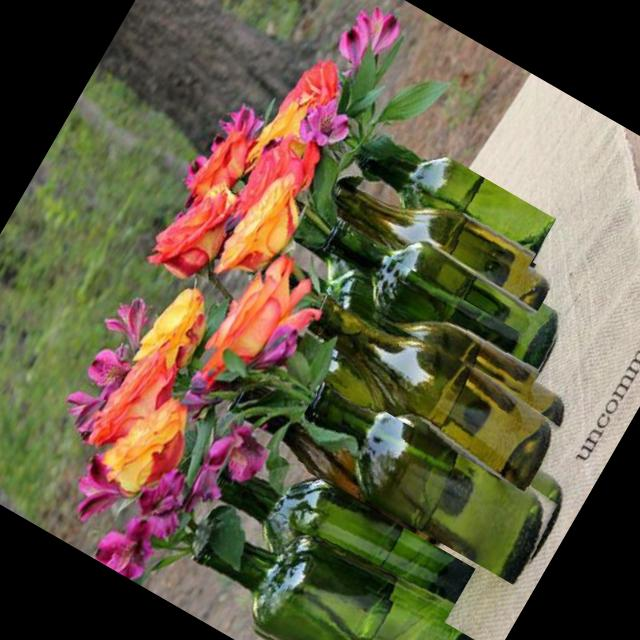Glass: (284, 350, 578, 588), (287, 265, 577, 491), (304, 192, 572, 404), (203, 435, 476, 640), (168, 492, 477, 640), (328, 162, 558, 334), (342, 117, 556, 284)
